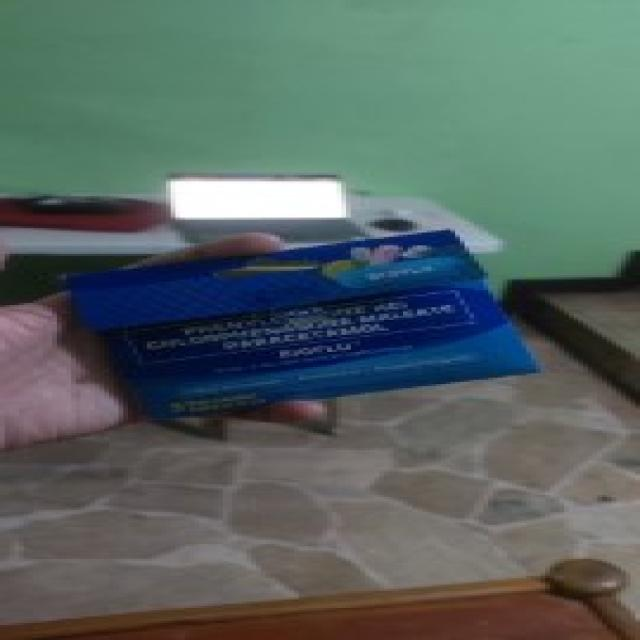Cacat: (59, 228, 548, 420)
